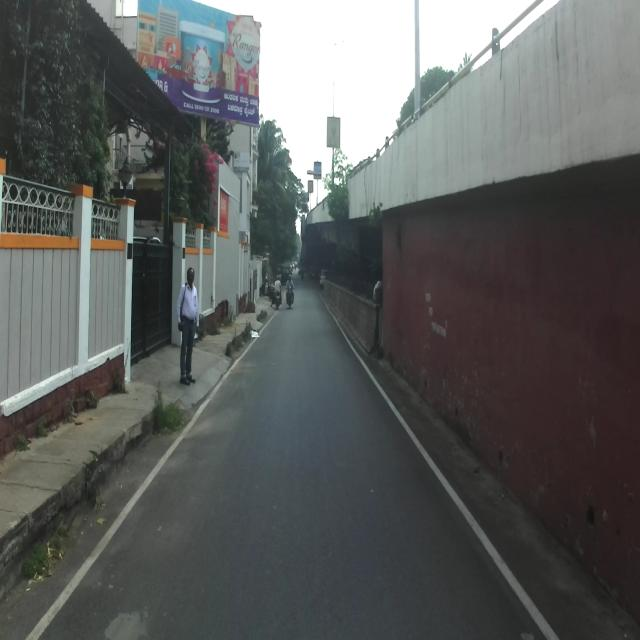person ahead at: (173, 259, 209, 389)
